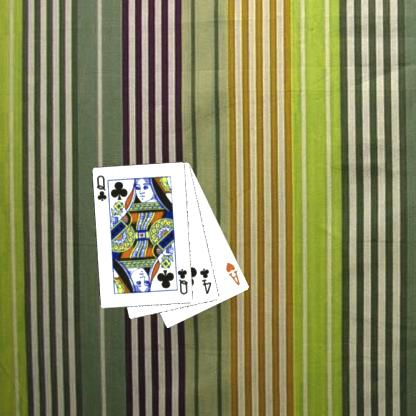4C: (197, 266, 213, 296)
AH: (223, 259, 242, 287)
QC: (175, 266, 189, 296), (94, 172, 108, 202)
